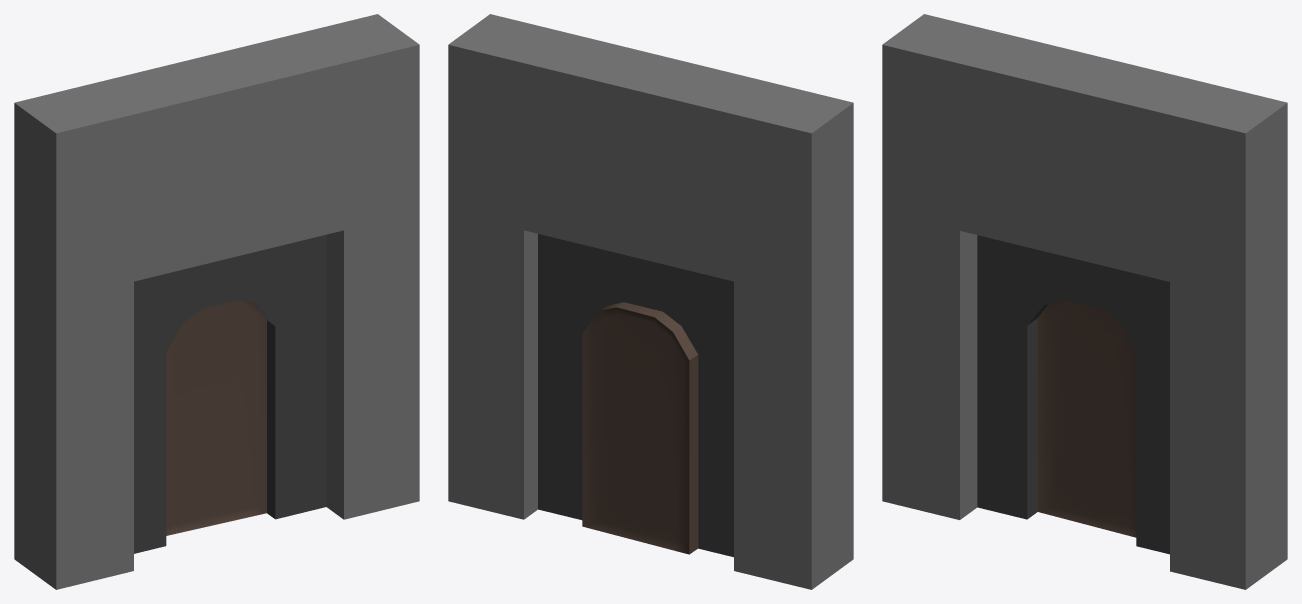
File: M_Wall_With_Small_Door.fbx
3 renders of one model, left to right at view 1: azimuth 30°, elevation 25°; view 2: azimuth 150°, elevation 25°; view 3: azimuth 330°, elevation 25°, orthographic.
Visible parts, largest first — view 1: M_Wall_With_Small_Door, M_small_door; view 2: M_Wall_With_Small_Door, M_small_door; view 3: M_Wall_With_Small_Door, M_small_door.
Boxes of the visible parts, box(x1,y1,x2,y2) form: M_Wall_With_Small_Door: box(14, 14, 419, 589); M_small_door: box(166, 299, 266, 535); M_Wall_With_Small_Door: box(448, 14, 853, 589); M_small_door: box(582, 302, 698, 554); M_Wall_With_Small_Door: box(882, 14, 1287, 589); M_small_door: box(1037, 300, 1136, 537).
Size of the model in its own units: 500 by 600 by 100.
